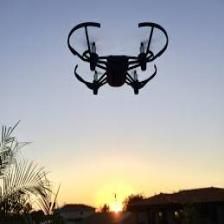drone: (68, 21, 169, 95)
